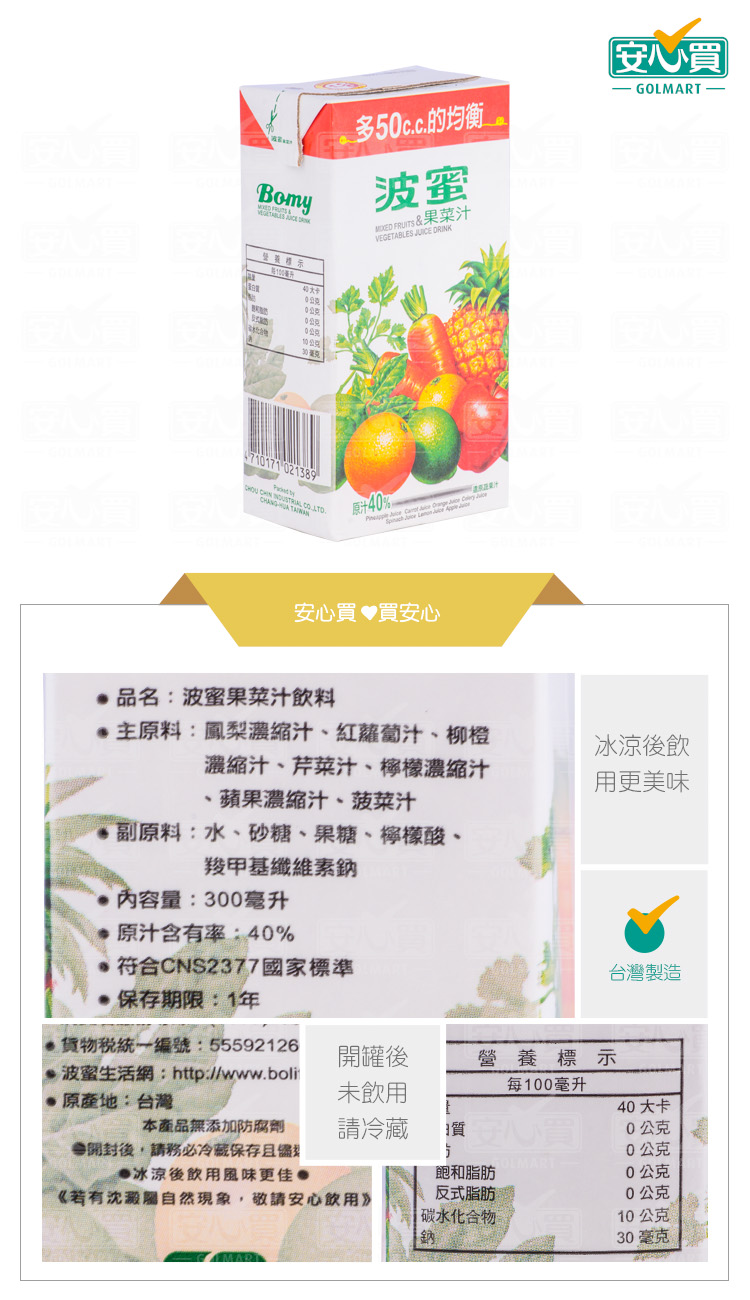vegetables juice: (220, 53, 520, 545)
